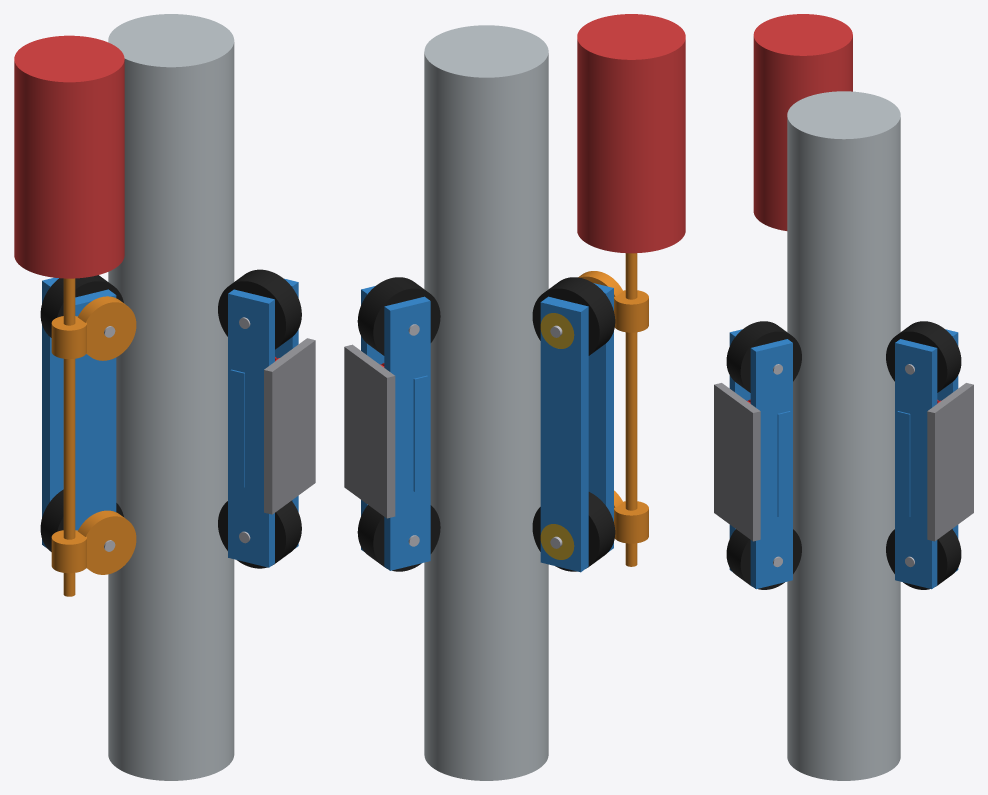
Rendered from cart-wheel-pairs-v1.glb.
3 views of the same model, side by side, from view 1: azimuth 30°, elevation 25°; view 2: azimuth 150°, elevation 25°; view 3: azimuth 270°, elevation 25° (orthographic). The views are drawn at different scales.
Parts seen in each view (by area): view 1: track_pipe, drive_motor, idler_m60_carrier, driven_pair_carrier, idler_m60_spring_cap, worm_shaft, driven_worm_wheels, idler_m60_wheels, driven_pair_wheels; view 2: track_pipe, drive_motor, driven_pair_carrier, idler_p60_carrier, idler_p60_spring_cap, worm_shaft, idler_p60_wheels, driven_pair_wheels, driven_pair_bearings; view 3: track_pipe, drive_motor, idler_p60_carrier, idler_m60_carrier, idler_p60_spring_cap, idler_m60_spring_cap, idler_p60_wheels, idler_m60_wheels.
Boxes of the visible parts, x1,y1,x2,y2 form: track_pipe: [108, 14, 234, 780]; drive_motor: [14, 35, 124, 278]; idler_m60_carrier: [228, 278, 298, 567]; driven_pair_carrier: [42, 277, 116, 547]; idler_m60_spring_cap: [264, 338, 315, 514]; worm_shaft: [51, 278, 86, 596]; driven_worm_wheels: [78, 296, 136, 574]; idler_m60_wheels: [218, 269, 301, 568]; driven_pair_wheels: [40, 275, 123, 551]; track_pipe: [424, 25, 548, 780]; drive_motor: [577, 14, 685, 253]; driven_pair_carrier: [540, 283, 613, 572]; idler_p60_carrier: [361, 286, 430, 570]; idler_p60_spring_cap: [344, 344, 395, 518]; worm_shaft: [614, 253, 648, 566]; idler_p60_wheels: [357, 277, 440, 571]; driven_pair_wheels: [532, 277, 615, 571]; driven_pair_bearings: [540, 313, 574, 559]; track_pipe: [787, 91, 900, 780]; drive_motor: [753, 14, 852, 230]; idler_p60_carrier: [895, 329, 958, 589]; idler_m60_carrier: [729, 329, 792, 589]; idler_p60_spring_cap: [927, 383, 973, 541]; idler_m60_spring_cap: [714, 383, 760, 541]; idler_p60_wheels: [886, 321, 961, 589]; idler_m60_wheels: [726, 321, 801, 589].
Bounding box in the file's own units: 78.03 × 208 × 73.35.
